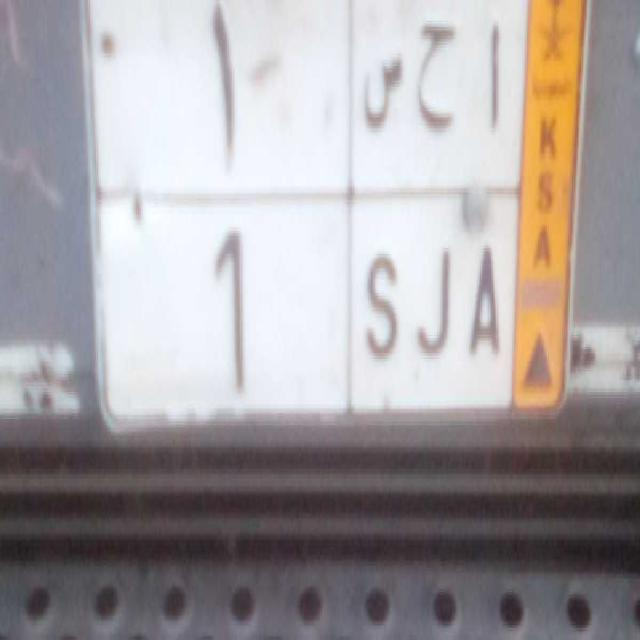license_plate: (94, 179, 518, 417)
